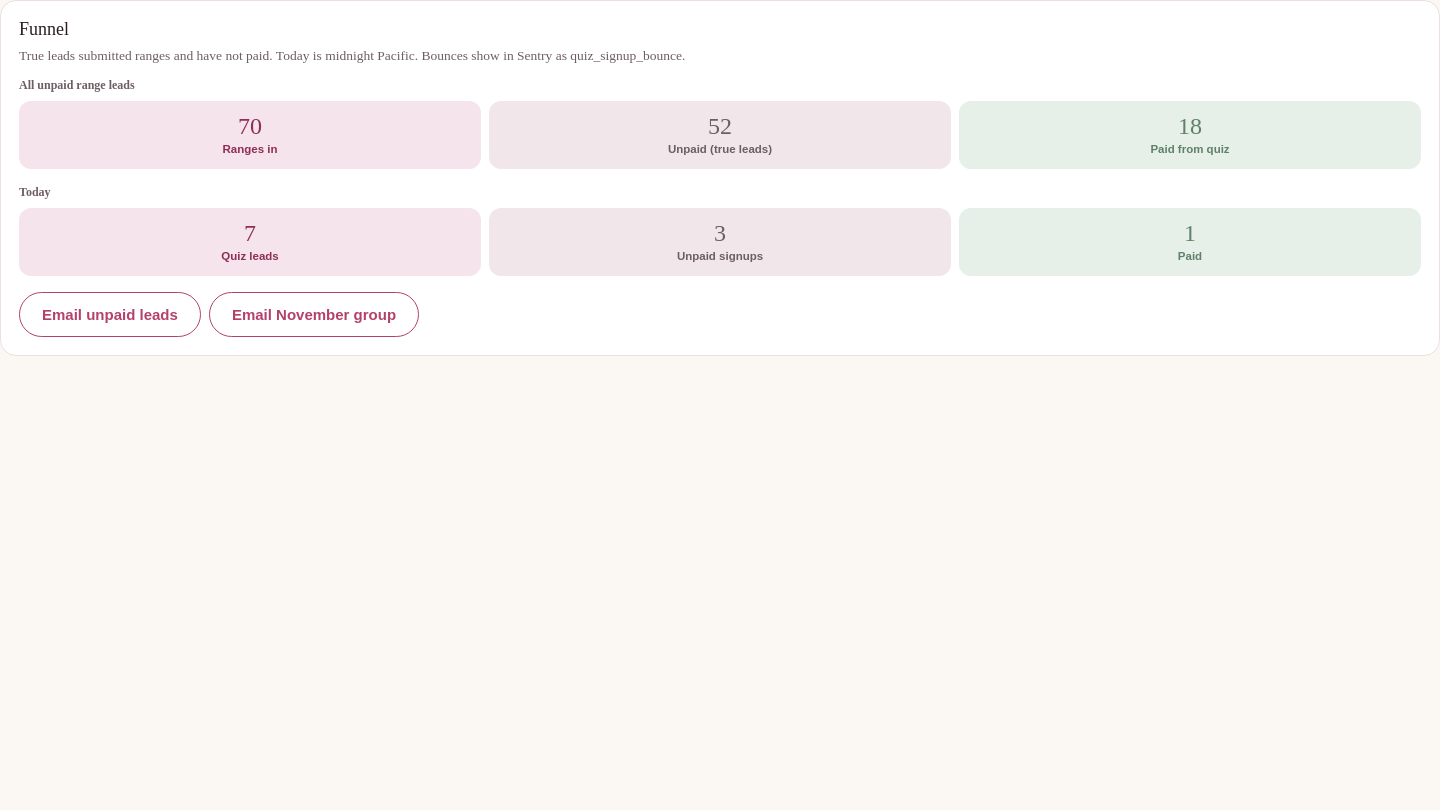
Scenario: AdminQuizFunnelCard › previews the one-more note without a money-back promise
Expected: the text "52" is shown, [708,113,732,139]
Step 1. Click the button "Email unpaid leads" → (110, 315), box [19,292,201,337]
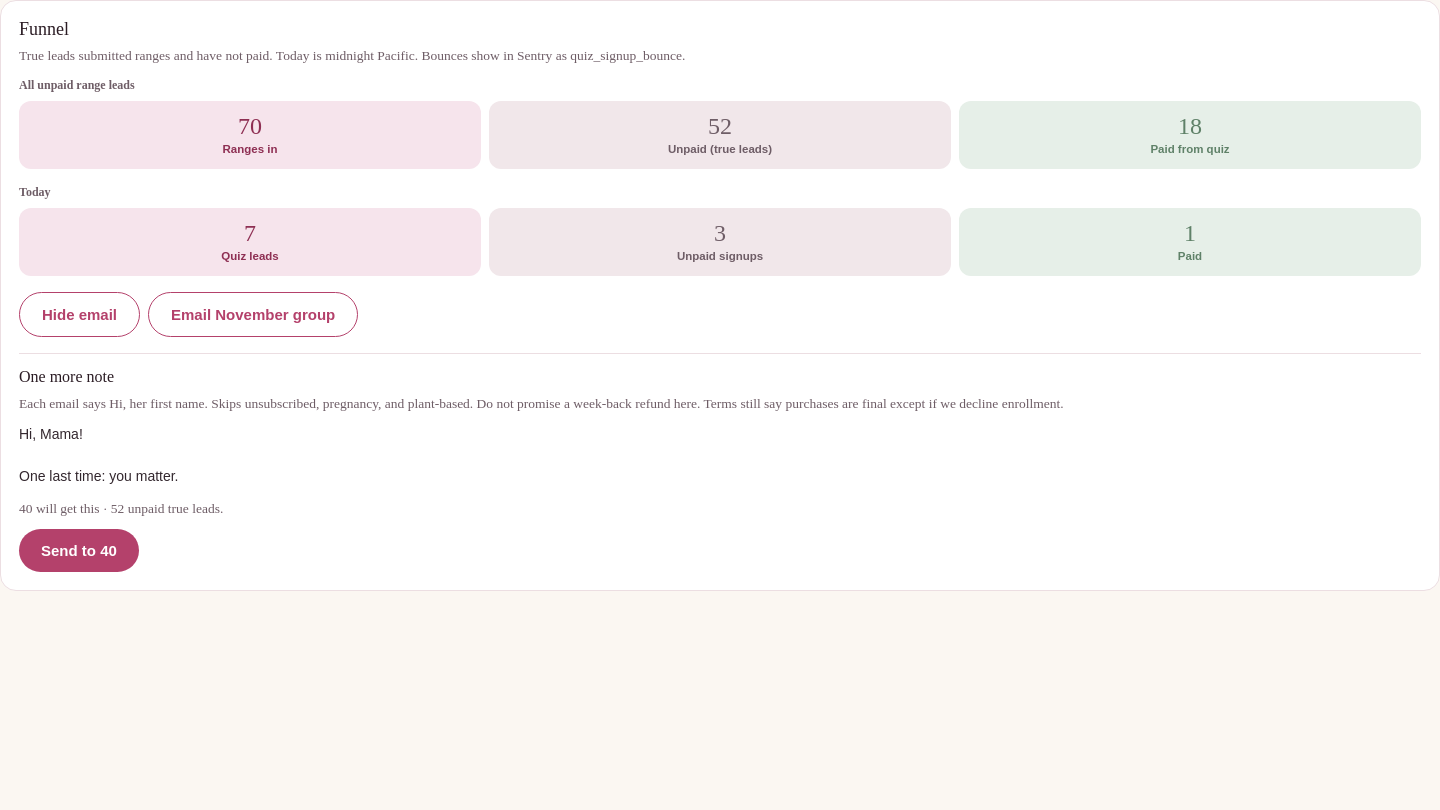
Expected: the text "40 will get this · 52 unpaid true leads." is shown, [19,501,223,516]
Expected: the text "Hi, Mama! One last time: you matter." is shown, [19,426,178,484]
Expected: the text "Do not promise a week-back refund" is shown, [19,396,1064,411]
